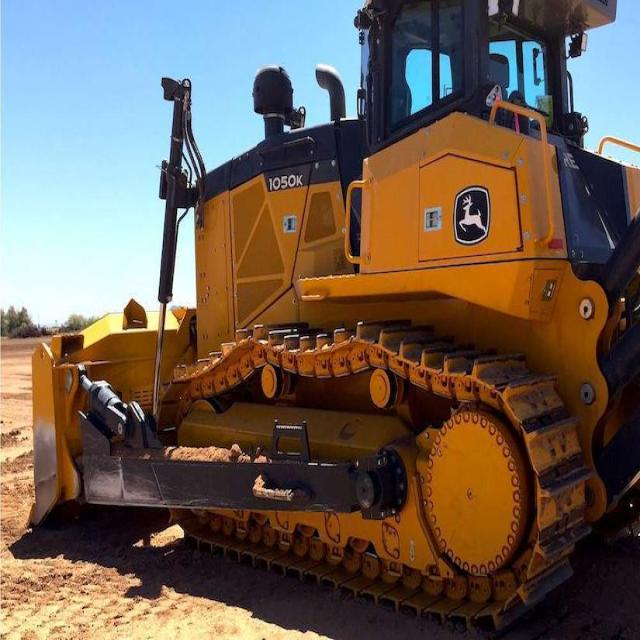buldozerpayloadergrader: (12, 4, 640, 626)
